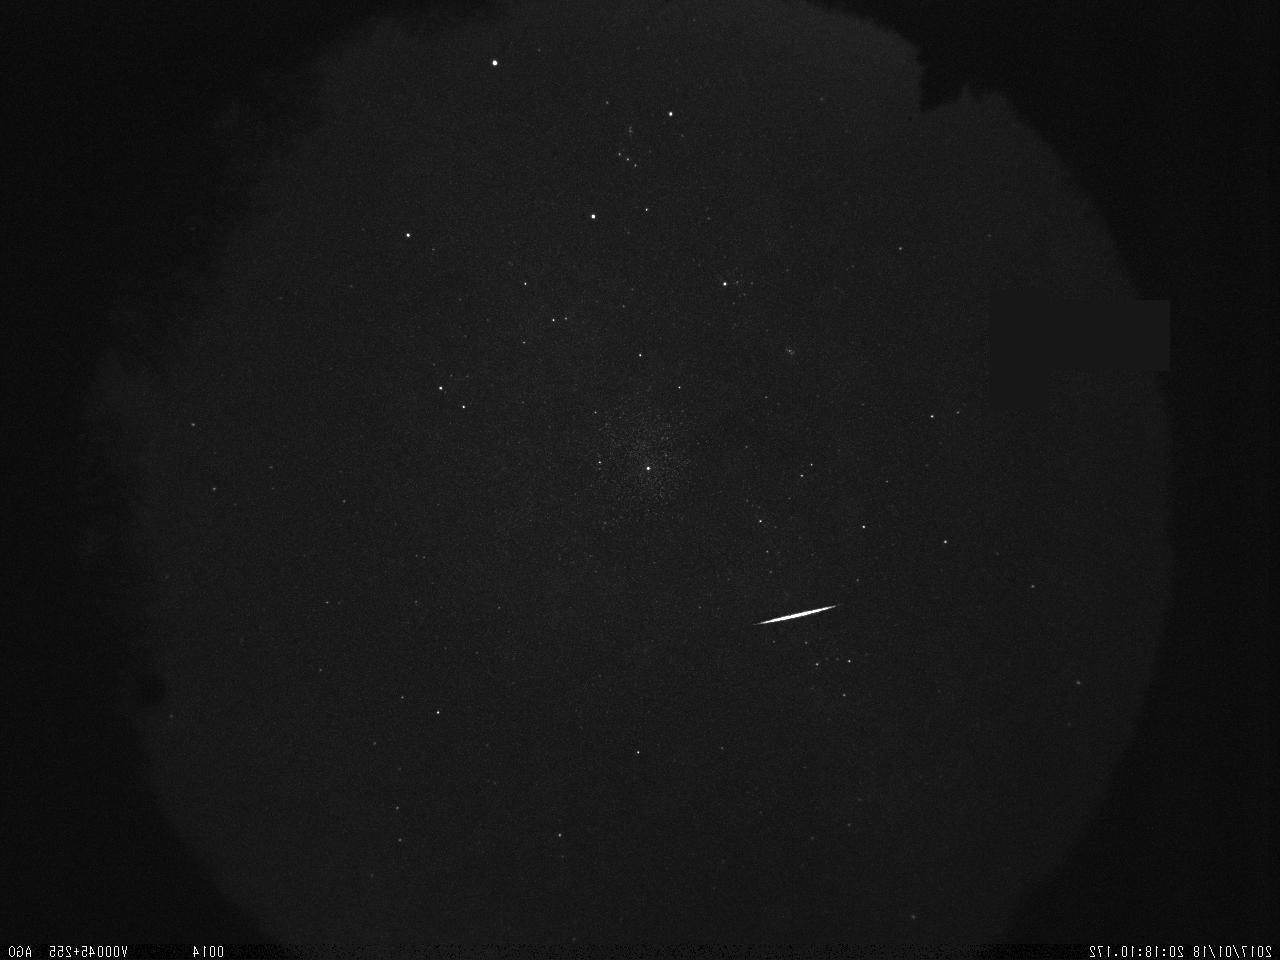meteor: (749, 594, 848, 638)
